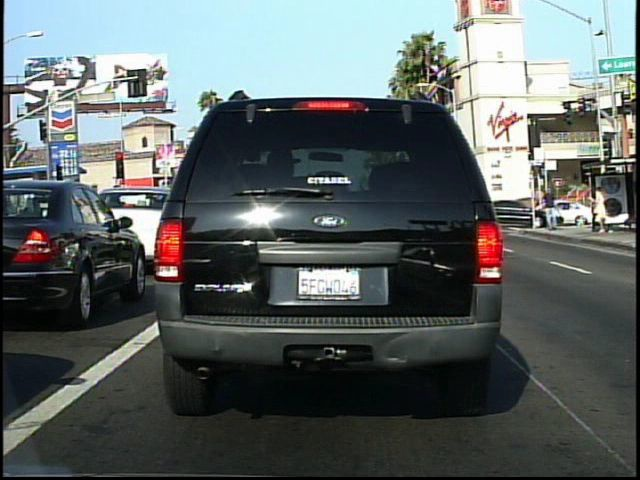person: (590, 183, 612, 235), (540, 184, 561, 234)
